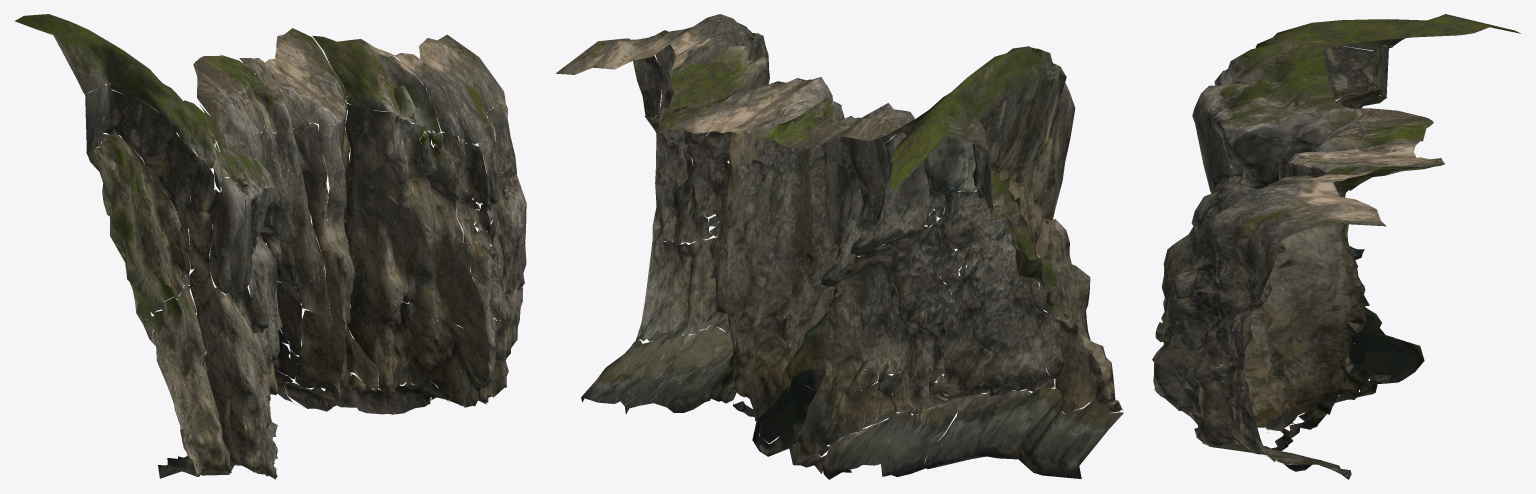
The model's file is coastal_cliff_02.glb.
3 renders of one model, left to right at view 1: azimuth 30°, elevation 25°; view 2: azimuth 150°, elevation 25°; view 3: azimuth 270°, elevation 25°, orthographic. The views are drawn at different scales.
Visible parts, largest first — view 1: coastal_cliff_02_LOD0; view 2: coastal_cliff_02_LOD0; view 3: coastal_cliff_02_LOD0.
Boxes of the visible parts, bbox=[...] form: coastal_cliff_02_LOD0: bbox=[14, 14, 526, 479]; coastal_cliff_02_LOD0: bbox=[555, 14, 1123, 479]; coastal_cliff_02_LOD0: bbox=[1152, 14, 1520, 479].
Bounding box in the file's own units: 1 × 1 × 1.
1 material, 1 textured.
